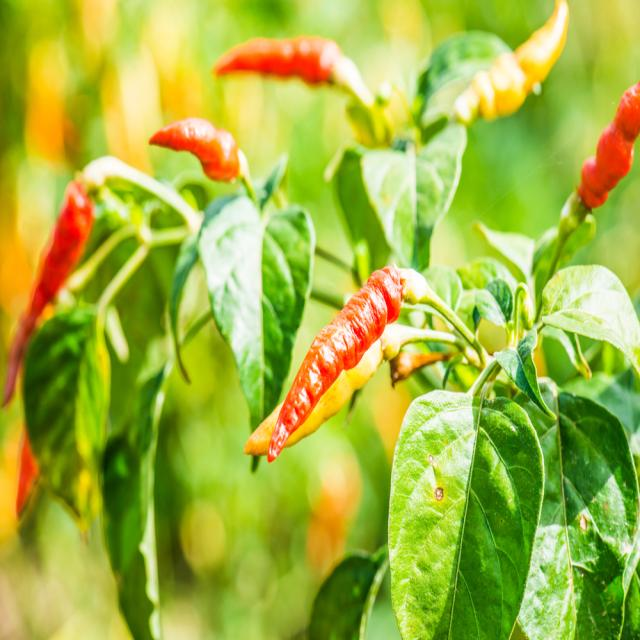Ripe: (269, 266, 404, 460), (4, 182, 94, 404), (579, 81, 640, 208), (214, 36, 342, 84), (149, 120, 240, 182)
Unripe: (285, 339, 384, 447)
